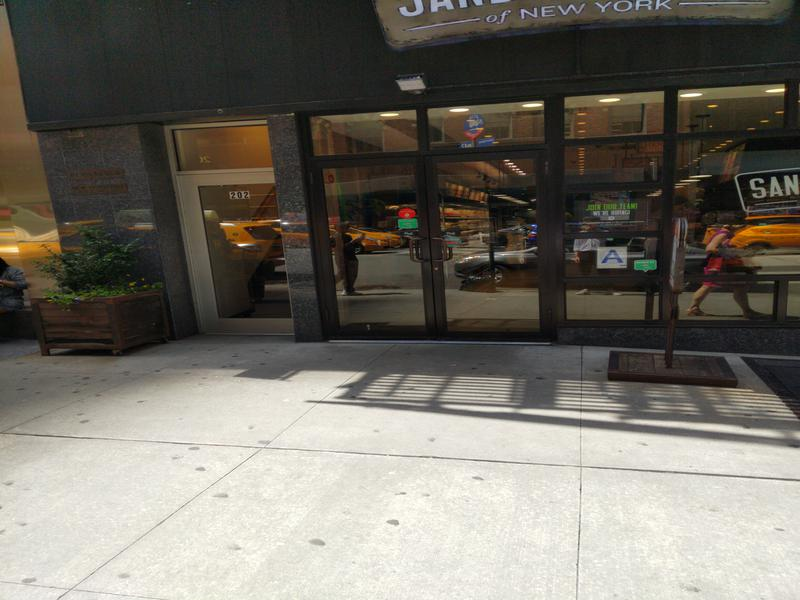double_door: (312, 150, 574, 350)
